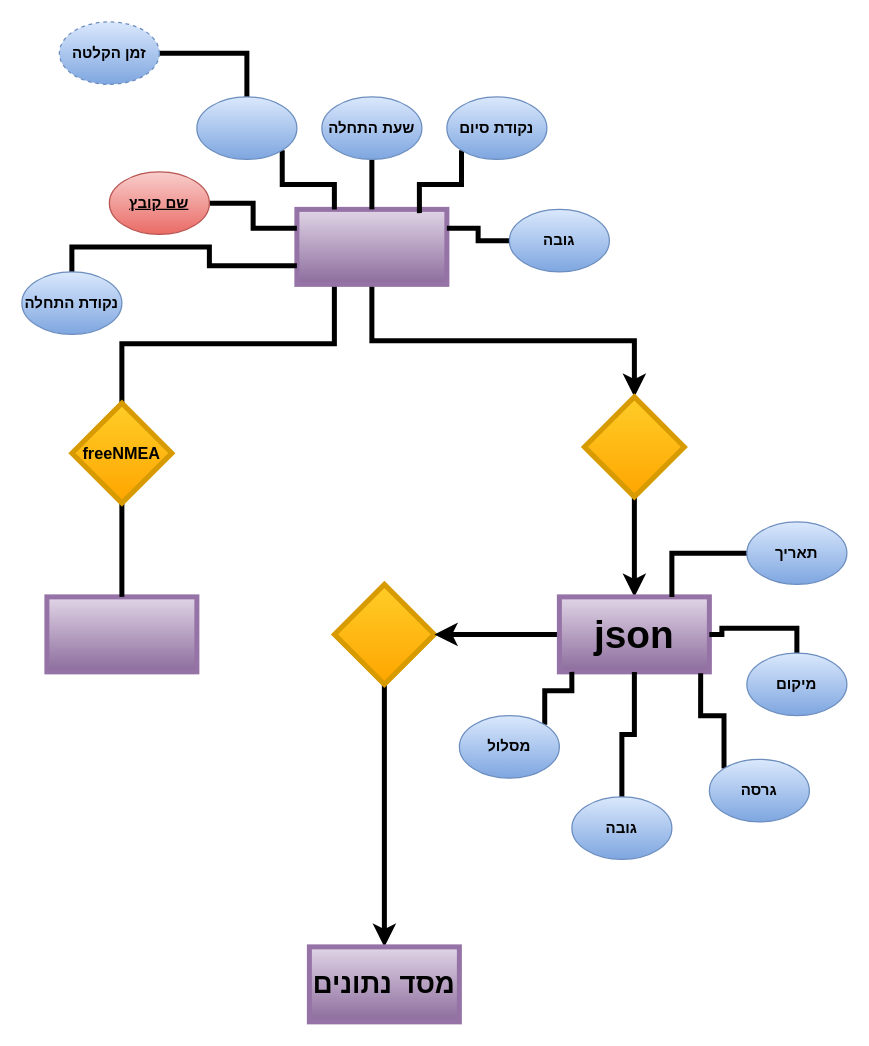
Some shapes in this 869 by 1046 pixel diagram are drawn without their labels. The shapes that lost their labels are listed below. From the top down, each one's box as (x1, y1, x2, y2) in pixels, then its label:
(196, 96, 297, 159): שעת סיום
(294, 206, 449, 286): nmea file
(581, 394, 686, 499): המרה
(44, 594, 199, 674): תצוגה ויזואלית
(331, 581, 436, 686): קריאה
